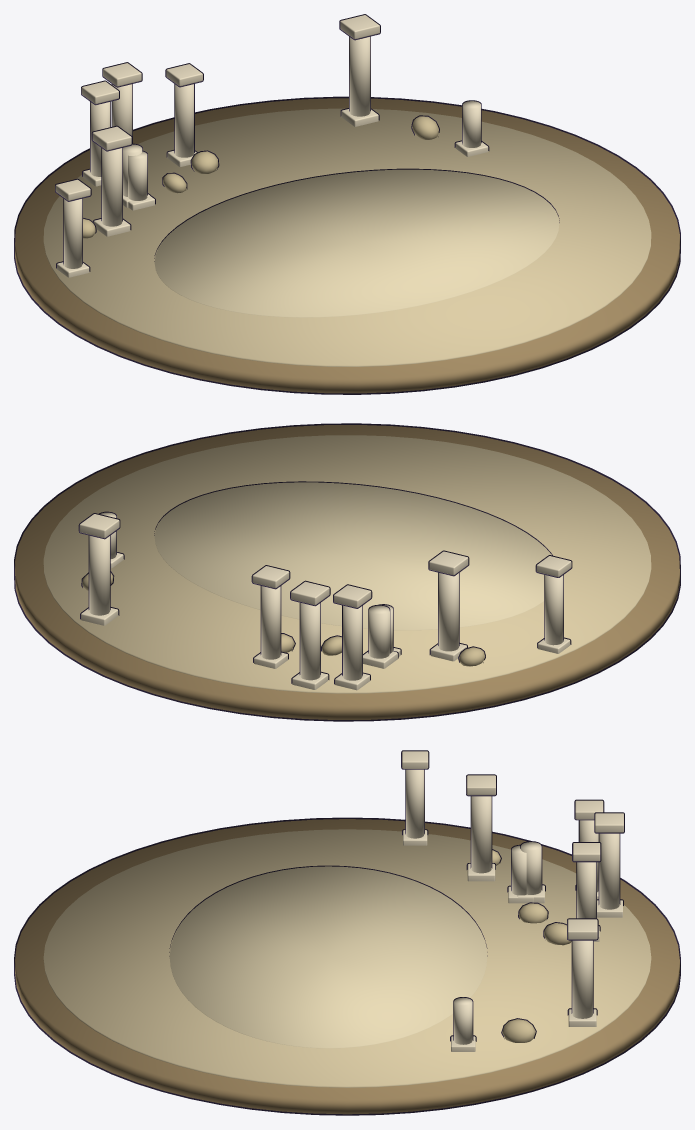
Rendered from ancient.glb.
The picture shows the model from 3 angles, top to bottom: view 1: azimuth 30°, elevation 25°; view 2: azimuth 150°, elevation 25°; view 3: azimuth 270°, elevation 25°; orthographic projection.
Visible parts, largest first — view 1: ground, floor, skirt, column.006, column, column.003, column.008, column.005, column.007, column.004, column.002, box.011 (+6 smaller); view 2: ground, floor, skirt, column.006, column, column.002, column.003, column.005, column.008, column.001, box.011, box.001 (+5 smaller); view 3: ground, floor, skirt, column.006, column, column.002, column.008, column.003, column.007, column.001, column.004, box.011 (+6 smaller).
Boxes of the visible parts, <box> form: ground: <box>43,108,651,366</box>; floor: <box>154,168,559,317</box>; skirt: <box>14,96,680,394</box>; column.006: <box>349,36,370,116</box>; column: <box>101,148,122,226</box>; column.003: <box>174,84,194,157</box>; column.008: <box>63,198,82,268</box>; column.005: <box>90,101,110,176</box>; column.007: <box>462,100,481,147</box>; column.004: <box>128,150,147,200</box>; column.002: <box>111,84,132,143</box>; box.011: <box>339,14,380,40</box>; ground: <box>43,435,651,693</box>; floor: <box>154,481,552,630</box>; skirt: <box>14,423,680,721</box>; column.006: <box>88,535,110,615</box>; column: <box>438,572,459,651</box>; column.002: <box>299,602,320,680</box>; column.003: <box>260,586,281,659</box>; column.005: <box>342,605,362,680</box>; column.008: <box>544,575,563,645</box>; column.001: <box>368,604,390,658</box>; box.011: <box>78,513,120,539</box>; box.001: <box>428,550,469,576</box>; ground: <box>43,829,651,1087</box>; floor: <box>169,865,487,1048</box>; skirt: <box>14,817,680,1115</box>; column.006: <box>571,940,593,1018</box>; column: <box>470,796,492,873</box>; column.002: <box>598,833,620,909</box>; column.008: <box>405,769,424,838</box>; column.003: <box>576,862,596,918</box>; column.007: <box>453,997,473,1044</box>; column.001: <box>520,841,542,894</box>; column.004: <box>511,844,526,895</box>; box.011: <box>567,918,598,940</box>.
Bounding box in the file's own units: 21.07 × 3.99 × 21.07.
